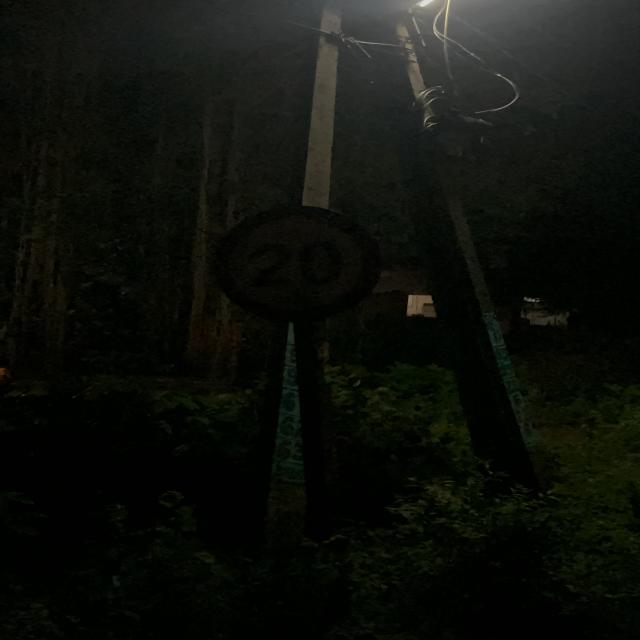speedlimit_20: (222, 202, 383, 330)
